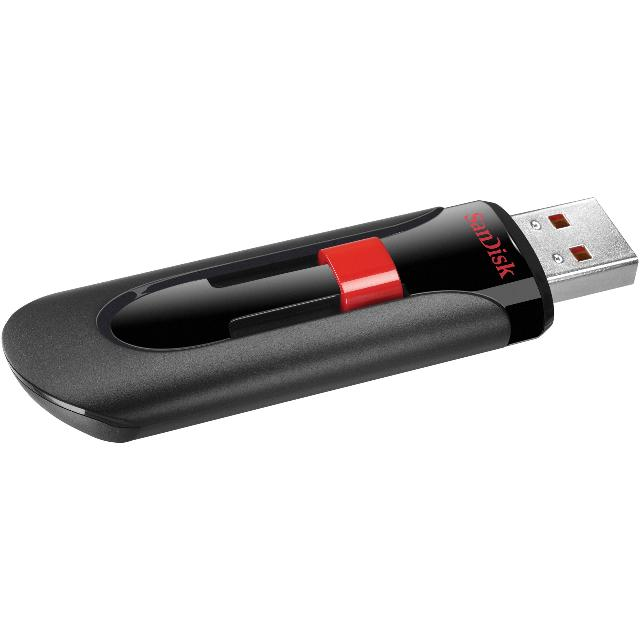USB-Flash-Drive: (0, 183, 640, 453)
